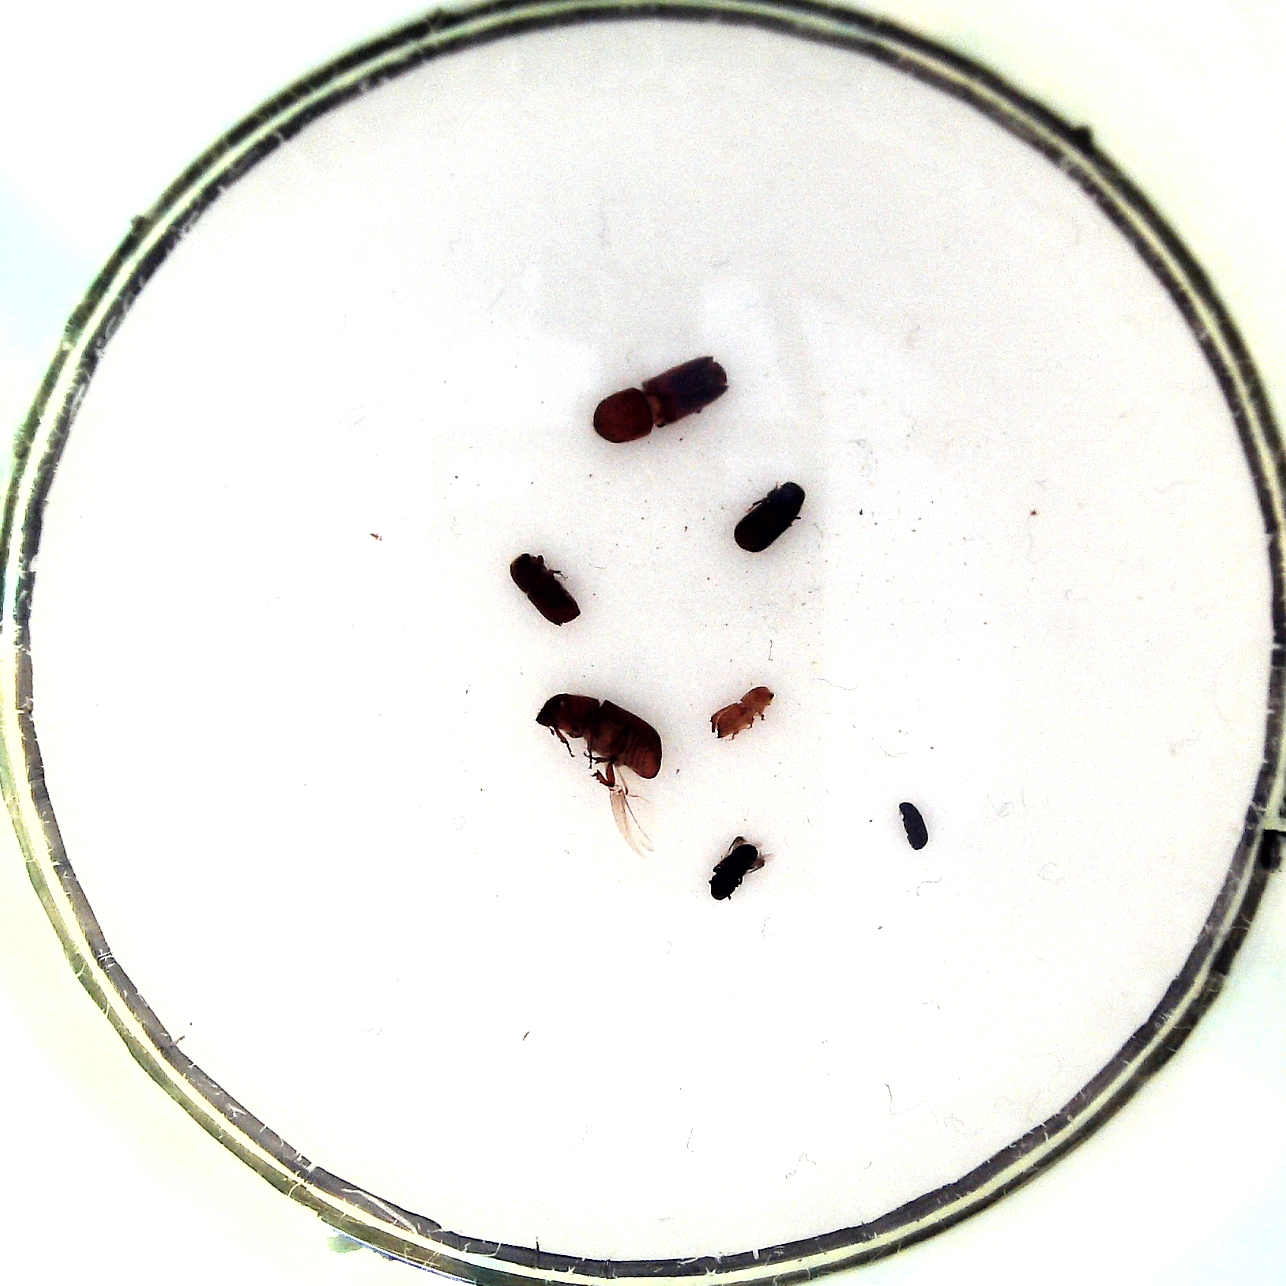Boerner: (589, 352, 735, 452)
Leconte: (528, 687, 669, 859)
Linnaeus: (508, 545, 584, 632)
acuminatus: (710, 685, 778, 741)
armandi: (730, 478, 808, 557)
coleoptera: (707, 831, 774, 904), (891, 795, 936, 855)
